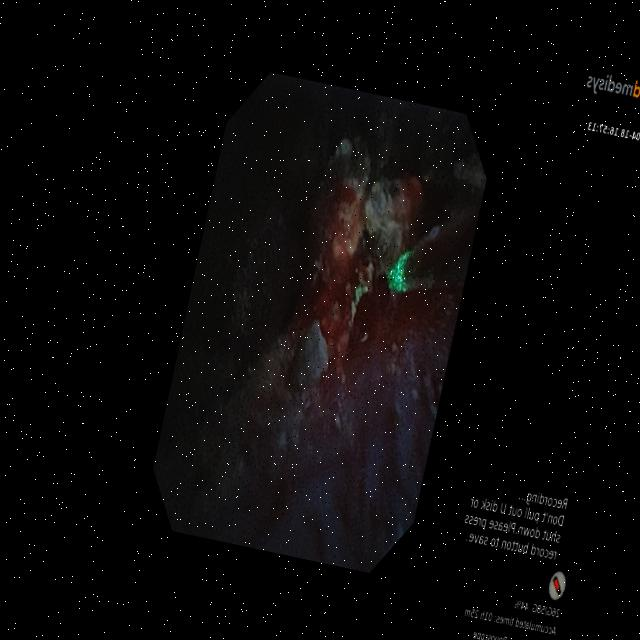laser-fibre: (390, 211, 479, 290)
laser_dot: (354, 282, 368, 305)
stone-new: (315, 140, 421, 282)
